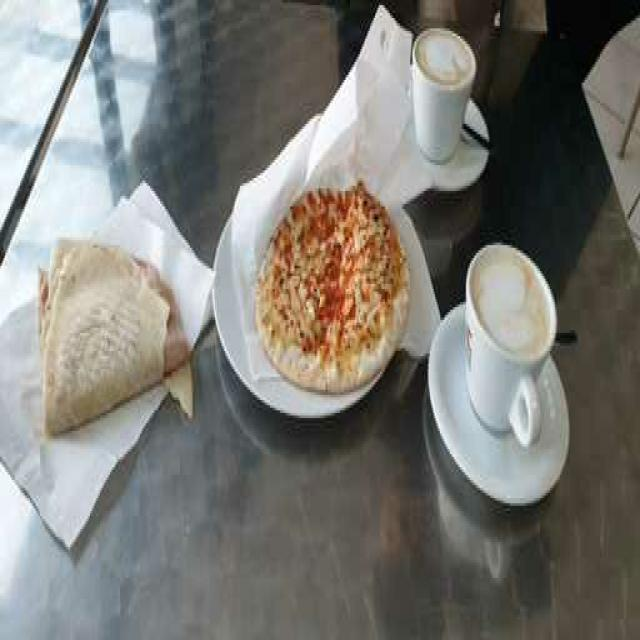Cup: (463, 240, 558, 446), (410, 26, 476, 162)
Plate: (209, 186, 404, 408), (426, 299, 570, 506), (400, 93, 490, 191)
